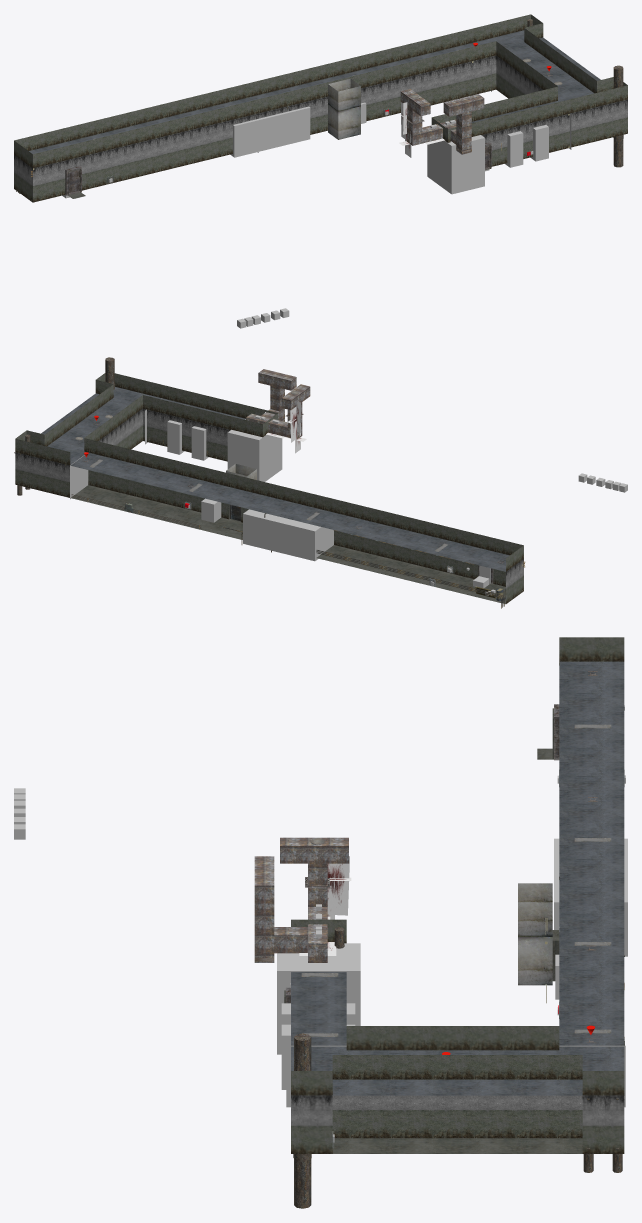
Rendered from level01_05_corridor02.dae.
3 views of the same model, one above another, from view 1: azimuth 30°, elevation 25°; view 2: azimuth 150°, elevation 25°; view 3: azimuth 270°, elevation 25° (orthographic). The views are drawn at different scales.
Parts seen in each view (by area): view 1: polySurface112, polySurface100_noshadow, polySurface117, polySurface106_noshadow, ventilation, _area_script_ventarea1, polySurface110_noshadow1, _area_script_steamarea2, polySurface104_noshadow, polySurface7, polySurface8_noshadow, polySurface93 (+8 smaller); view 2: polySurface112, polySurface104_noshadow, polySurface113_noshadow, polySurface93, _area_script_steamarea2, polySurface101_noshadow, ventilation, _area_script_ventarea1, polySurface110_noshadow1, polySurface7, polySurface8_noshadow, polySurface117 (+8 smaller); view 3: polySurface104_noshadow, polySurface8_noshadow, polySurface110_noshadow1, ventilation, polySurface7, polySurface110_noshadow, polySurface119, polySurface5, _area_script_ventarea1, polySurface36_noshadow, pipes13_nocollide_noshadow, pPlane32_nocollide_noshadow (+1 smaller).
Boxes of the visible parts, x1,y1,x2,y2 form: polySurface112: (33, 41, 495, 202); polySurface100_noshadow: (14, 28, 472, 150); polySurface117: (448, 99, 569, 166); polySurface106_noshadow: (570, 85, 627, 147); ventilation: (400, 89, 484, 154); _area_script_ventarea1: (427, 135, 484, 194); polySurface110_noshadow1: (474, 30, 600, 102); _area_script_steamarea2: (230, 106, 310, 157); polySurface104_noshadow: (29, 43, 474, 153); polySurface7: (496, 41, 557, 98); polySurface8_noshadow: (524, 14, 627, 93); polySurface93: (432, 87, 553, 122); polySurface112: (85, 438, 523, 586); polySurface104_noshadow: (71, 453, 509, 571); polySurface113_noshadow: (71, 485, 505, 604); polySurface93: (147, 396, 262, 461); _area_script_steamarea2: (243, 509, 333, 561); polySurface101_noshadow: (15, 439, 70, 497); ventilation: (246, 369, 310, 439); _area_script_ventarea1: (227, 419, 282, 481); polySurface110_noshadow1: (41, 387, 161, 464); polySurface7: (84, 395, 142, 449); polySurface8_noshadow: (15, 373, 113, 446); polySurface117: (162, 385, 277, 418); polySurface104_noshadow: (559, 661, 624, 1045); polySurface8_noshadow: (291, 1055, 624, 1153); polySurface110_noshadow1: (291, 1046, 624, 1095); ventilation: (254, 837, 348, 962); polySurface7: (346, 1026, 559, 1050); polySurface110_noshadow: (332, 1138, 582, 1153); polySurface119: (291, 972, 346, 1045); polySurface5: (518, 902, 552, 985); _area_script_ventarea1: (277, 943, 360, 1054); polySurface36_noshadow: (559, 637, 624, 661); pipes13_nocollide_noshadow: (293, 1033, 311, 1208); pPlane32_nocollide_noshadow: (327, 856, 349, 915).
Size of what is drawn, in the model's own units: 47.28 by 9.94 by 28.12.
